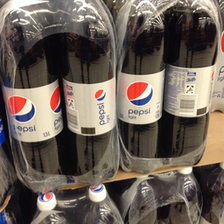soda: (1, 1, 72, 185), (61, 1, 117, 183), (114, 2, 166, 173), (165, 2, 218, 162)
